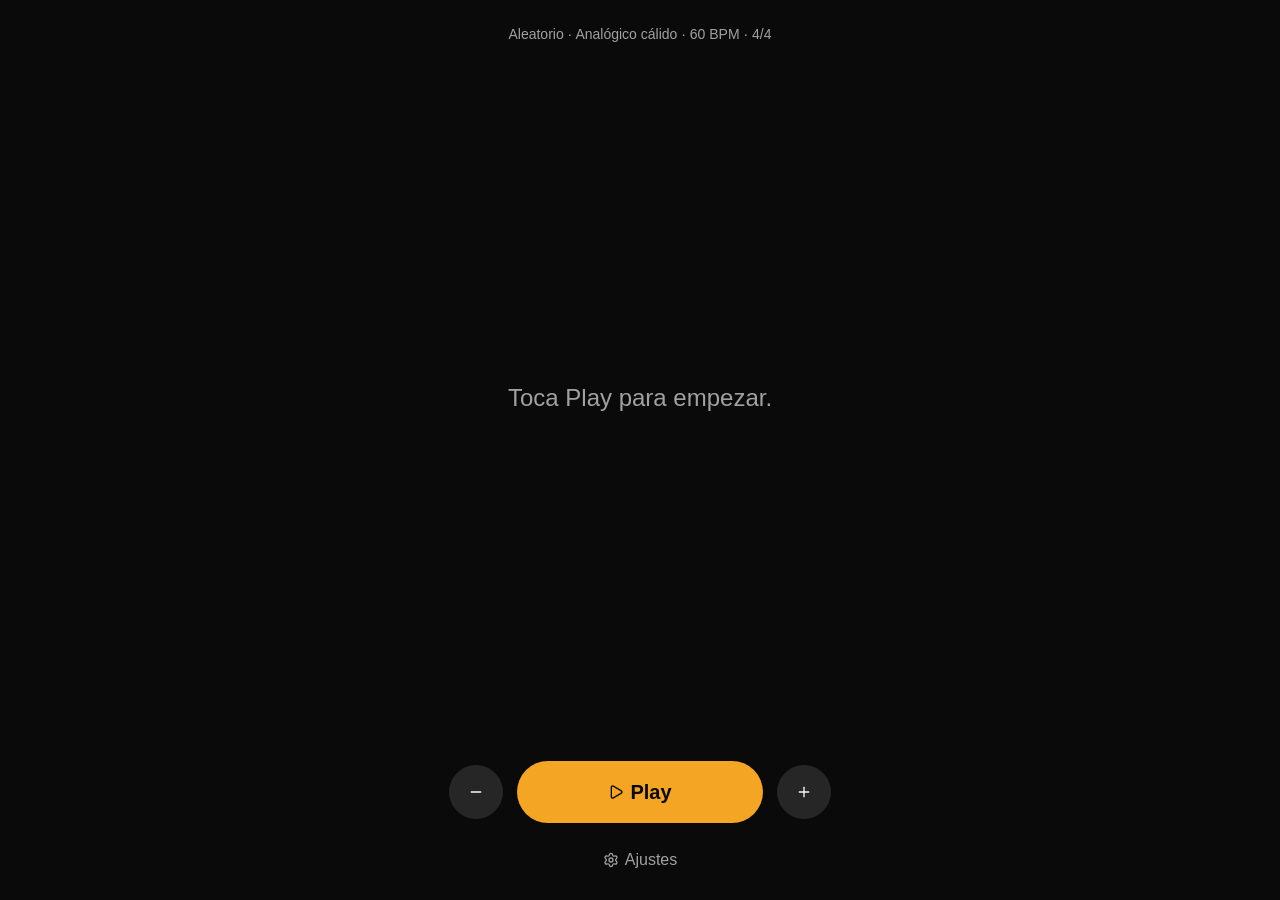
Test case: − y + cambian el BPM de a uno
Click the button "Ajustes": (640, 860) top-left (582, 836), bottom-right (698, 884)
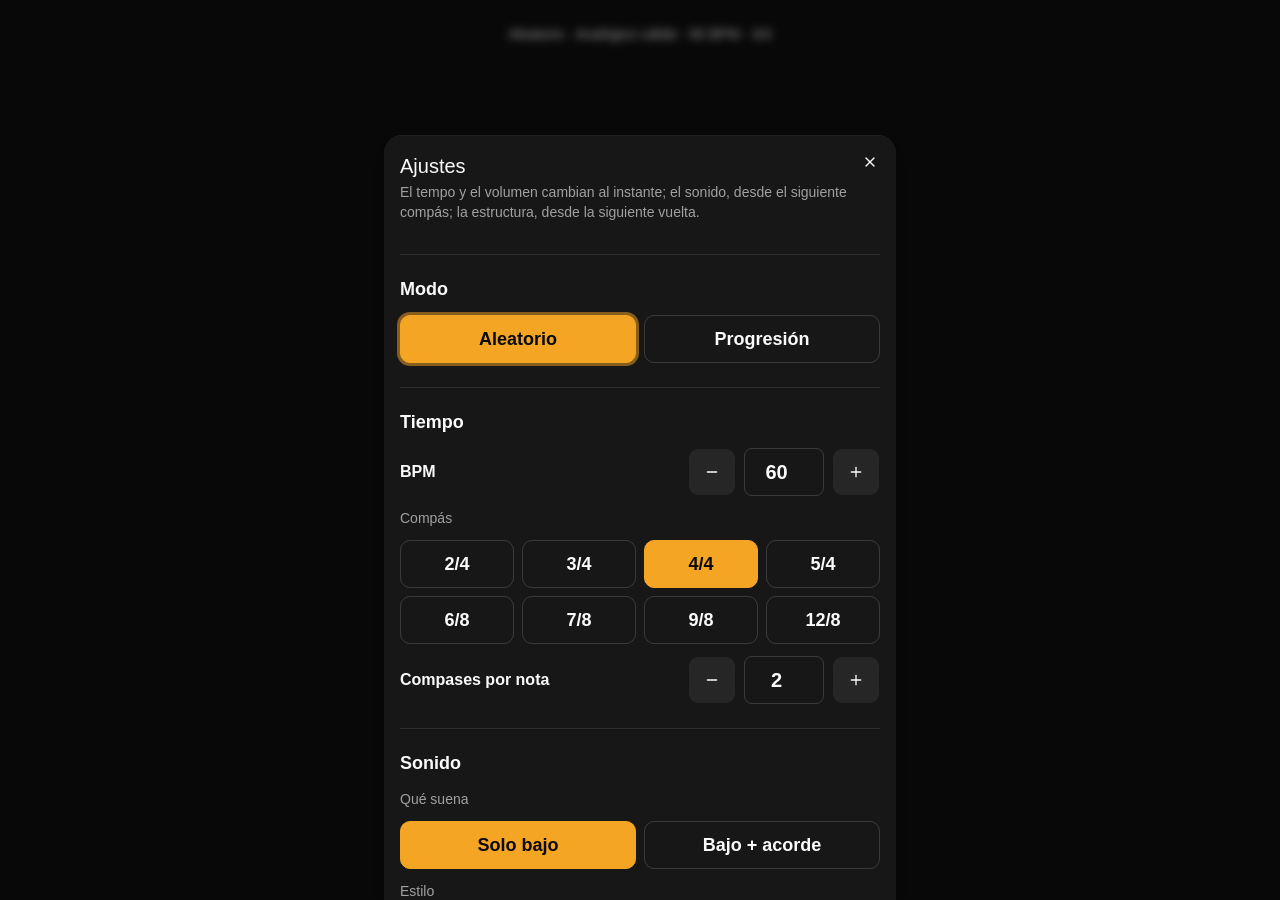
Click the button named "Subir BPM": (856, 472) top-left (832, 448), bottom-right (880, 496)
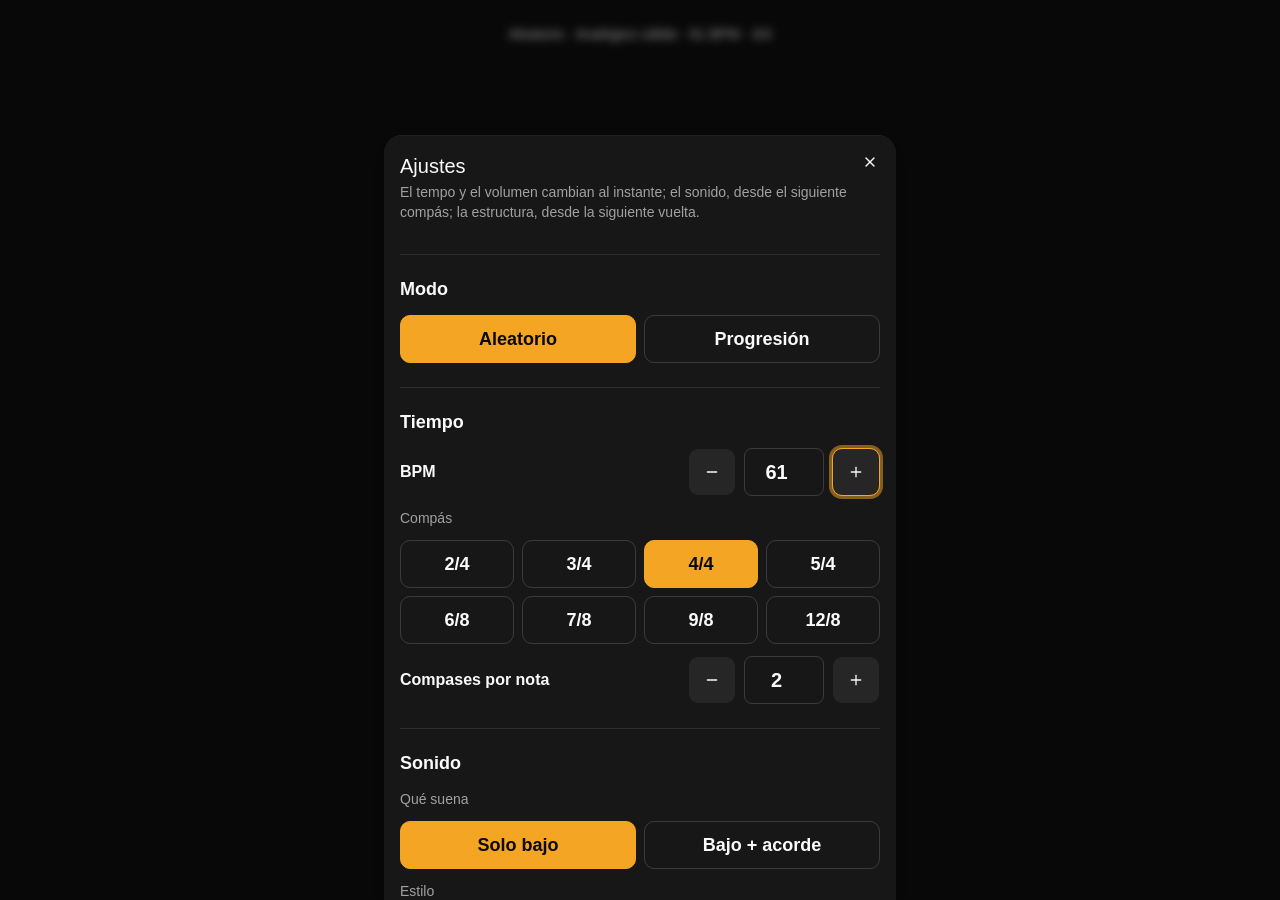
Result: the number field labelled "BPM" holds "61" at top-left (744, 448), bottom-right (824, 496)
Click the button named "Bajar BPM": (712, 472) top-left (688, 448), bottom-right (736, 496)
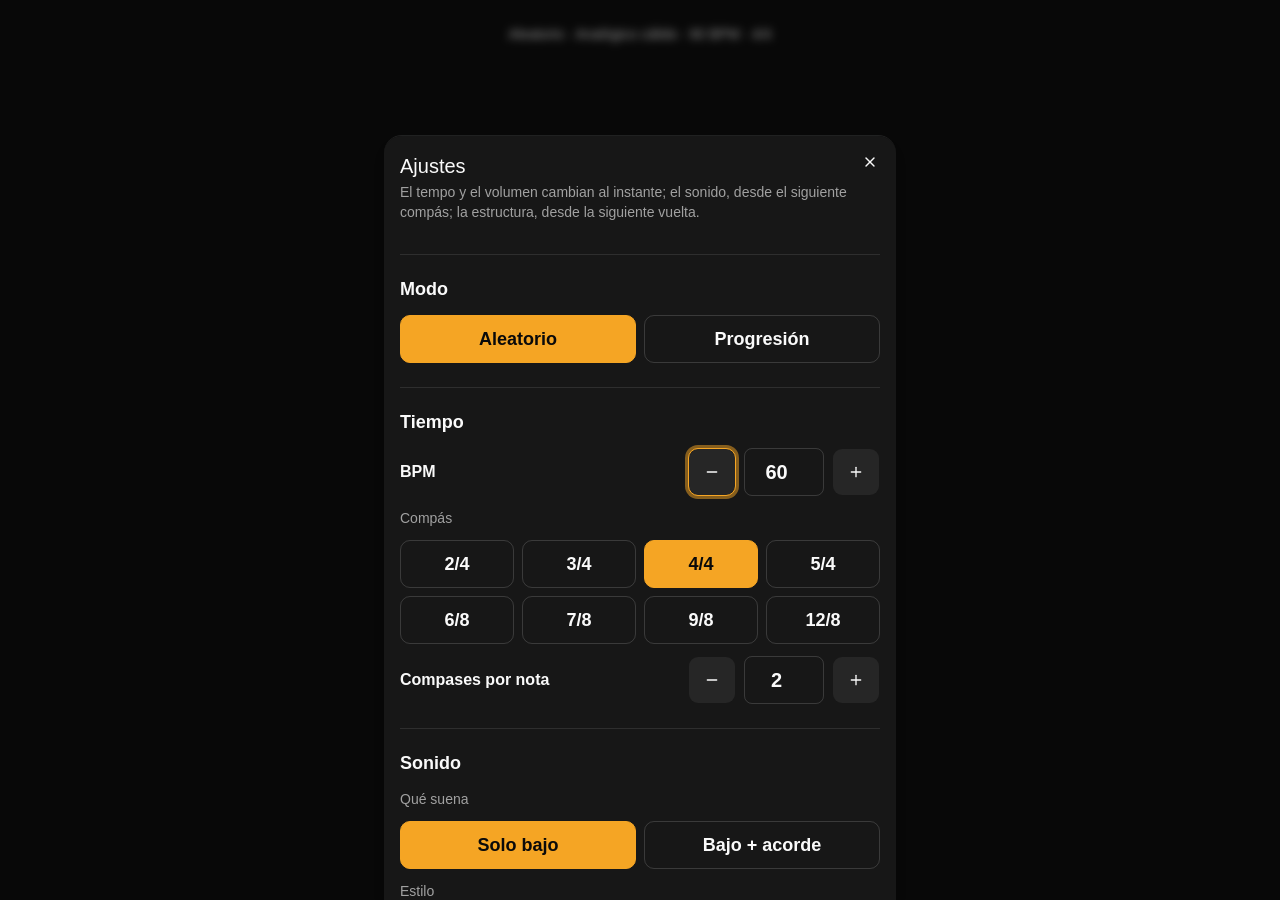
Click the button named "Bajar BPM": (712, 472) top-left (688, 448), bottom-right (736, 496)
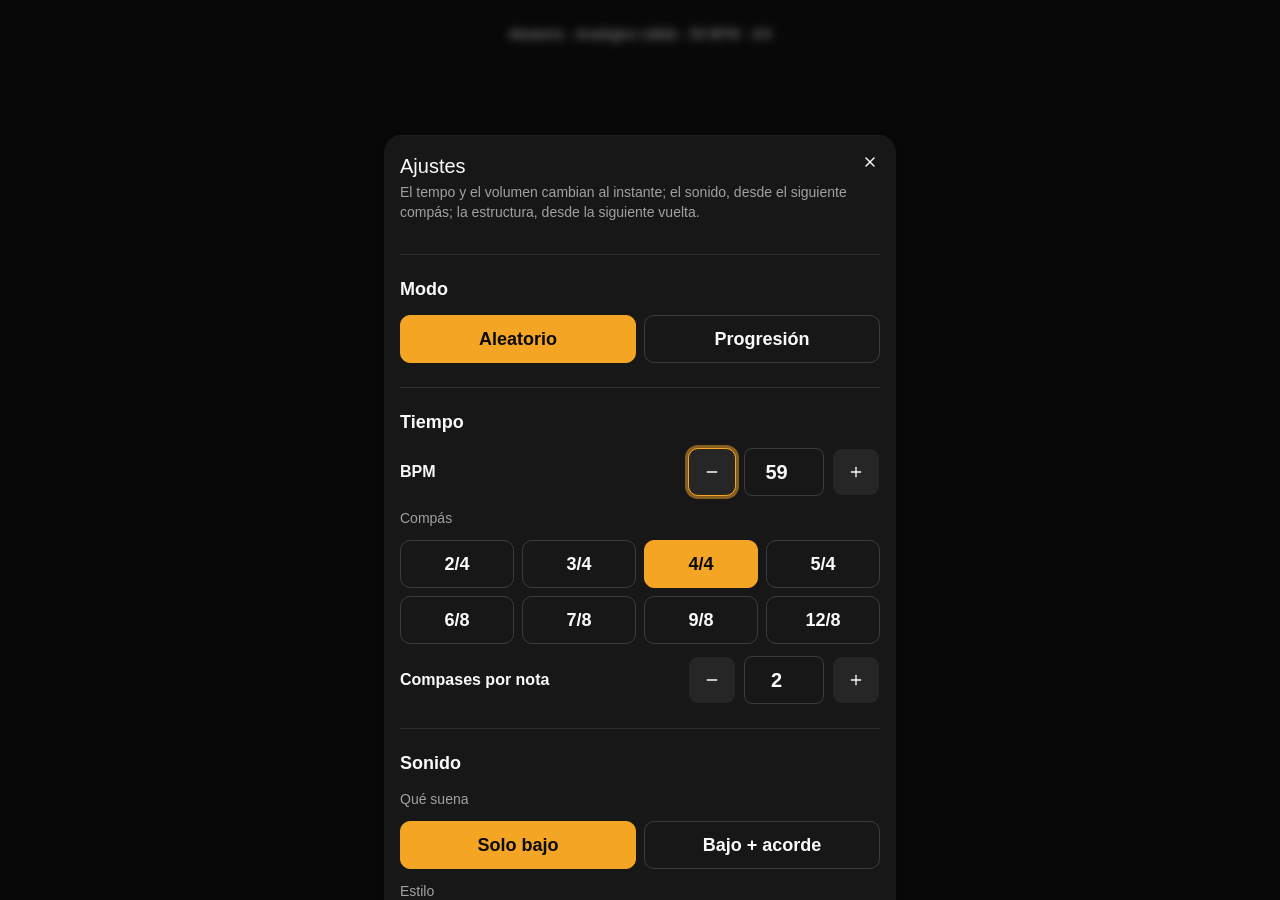
Result: the number field labelled "BPM" holds "59" at top-left (744, 448), bottom-right (824, 496)
